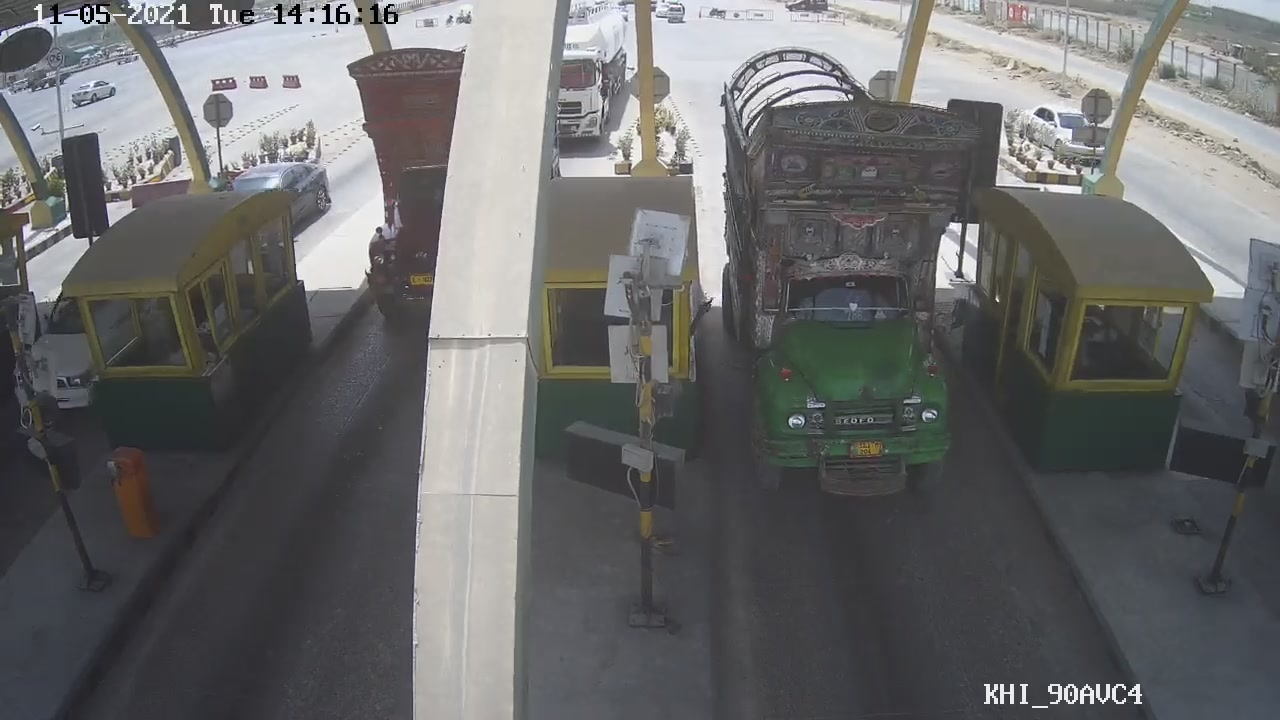F5: (717, 62, 987, 513)
